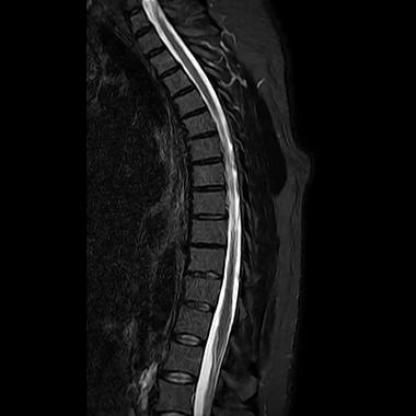Disc Protrusionrotation: (173, 88, 205, 117), (185, 129, 220, 144)
